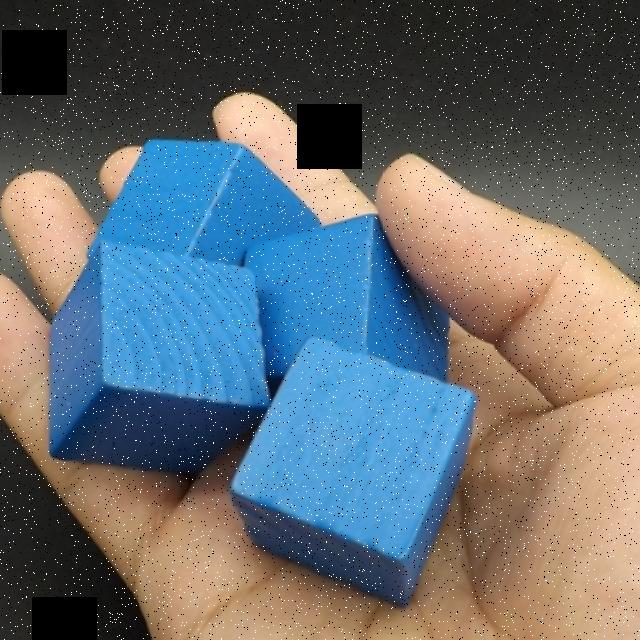bluecube: (229, 334, 478, 611), (49, 241, 268, 479), (243, 215, 448, 403), (85, 140, 324, 267)
